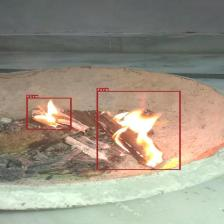fire: (96, 91, 181, 170), (26, 98, 71, 130)
